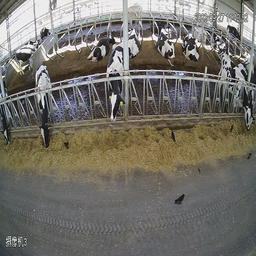cow: (219, 54, 251, 125), (104, 39, 124, 126), (34, 64, 52, 148), (240, 62, 253, 136), (17, 40, 38, 74), (88, 36, 114, 61), (1, 85, 10, 148), (156, 27, 174, 57), (181, 32, 200, 60), (122, 3, 141, 28), (128, 28, 139, 57), (212, 32, 226, 51), (149, 16, 164, 33), (228, 24, 242, 42), (194, 27, 207, 44), (40, 26, 51, 42)
